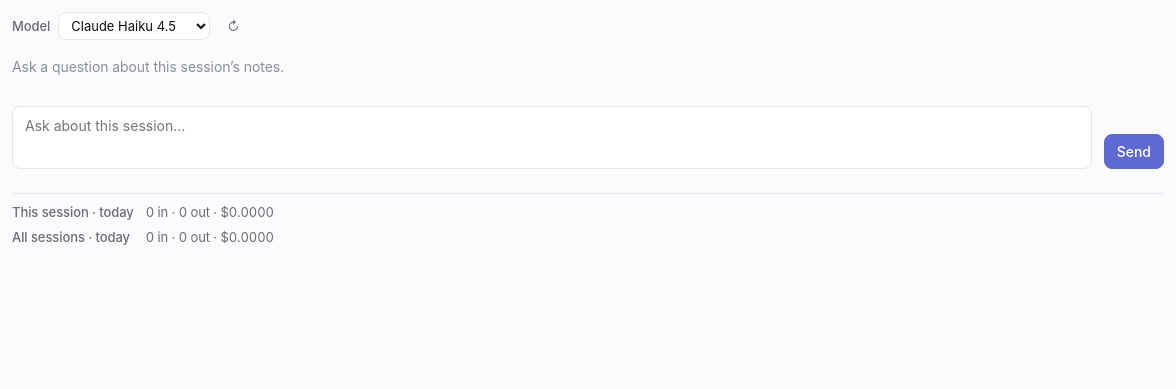
Scenario: ChatPanel › offers Retry on a RATE_LIMIT error and re-sends the same question
Type "ship date?" into the text box named "Ask Claude about this session" at (552, 138), box x1=12 y1=106 x2=1092 y2=169
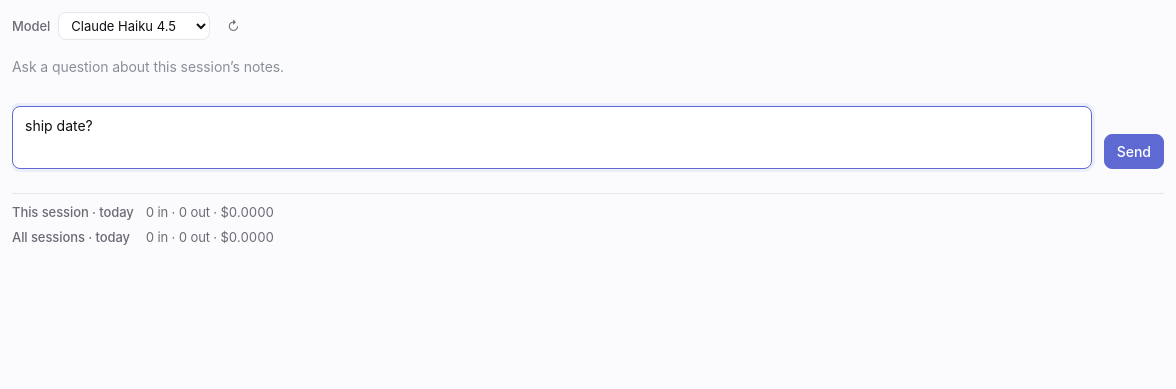
Click the button with aria-label "Send message" at (1134, 152), box x1=1104 y1=134 x2=1164 y2=169
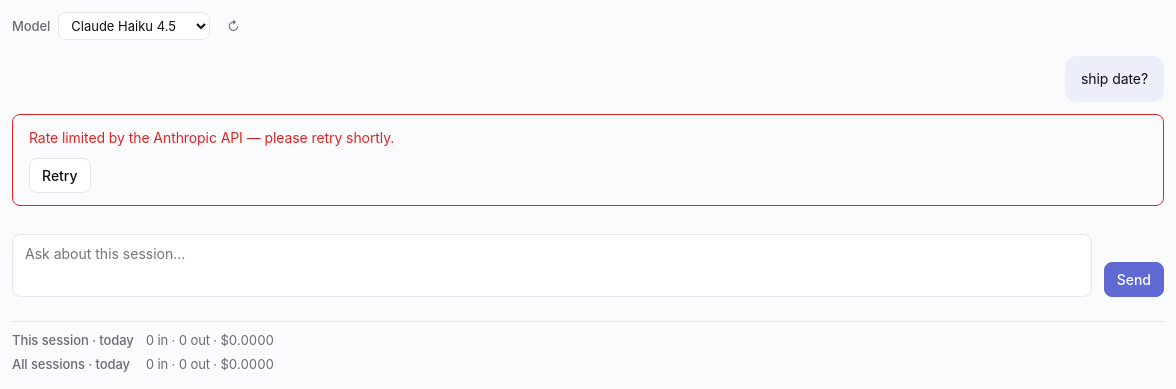
Expected: the message "Rate limited by the Anthropic API — please retry shortly. Retry" is shown, x1=12 y1=114 x2=1164 y2=206
Click the button "Retry" at (60, 175), box x1=29 y1=158 x2=91 y2=193
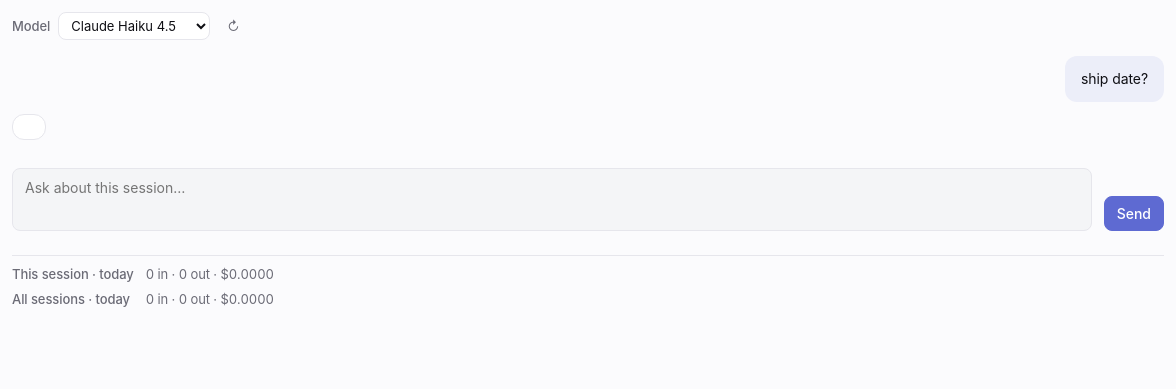
Expected: the button with aria-label "Send message" is disabled, x1=1104 y1=196 x2=1164 y2=231
Expected: the message "Rate limited by the Anthropic API — please retry shortly. Retry" is gone
